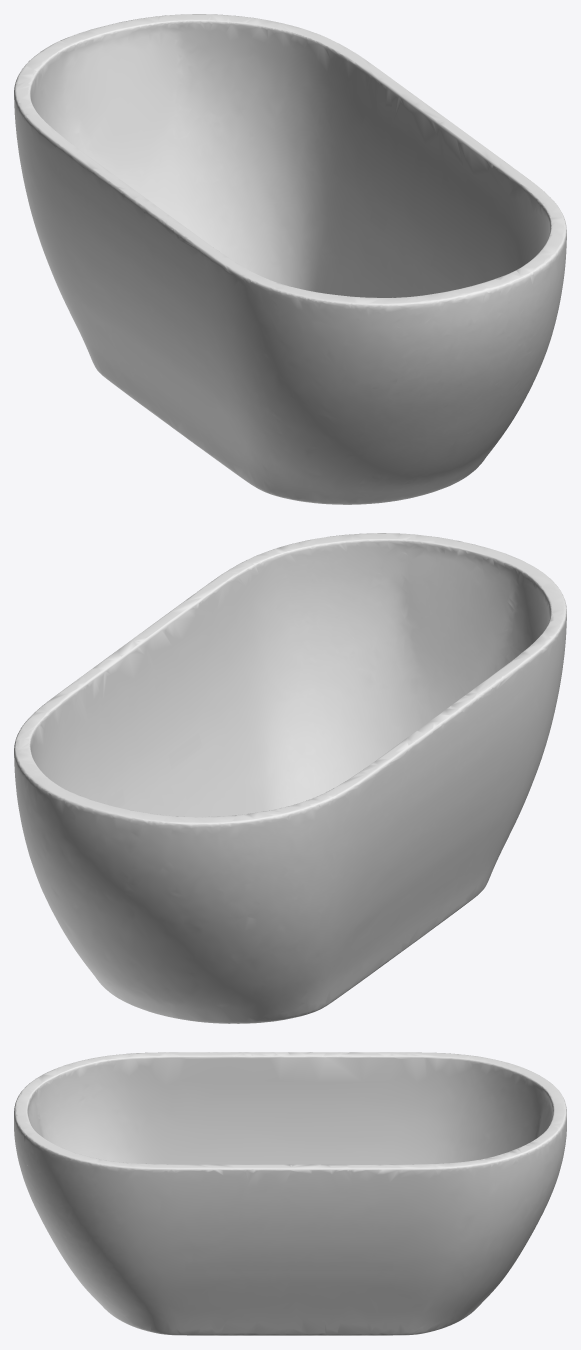
The model's file is oval-freestanding-bath.glb.
3 renders of one model, top to bottom at view 1: azimuth 30°, elevation 25°; view 2: azimuth 150°, elevation 25°; view 3: azimuth 270°, elevation 25°, orthographic. The views are drawn at different scales.
Visible parts, largest first — view 1: world; view 2: world; view 3: world.
Boxes of the visible parts, bbox=[...] form: world: bbox=[14, 14, 566, 504]; world: bbox=[14, 533, 566, 1023]; world: bbox=[14, 1052, 566, 1335].
Bounding box in the file's own units: 0.5035 × 0.3707 × 1.
Materials: 1 (1 with a texture image).
